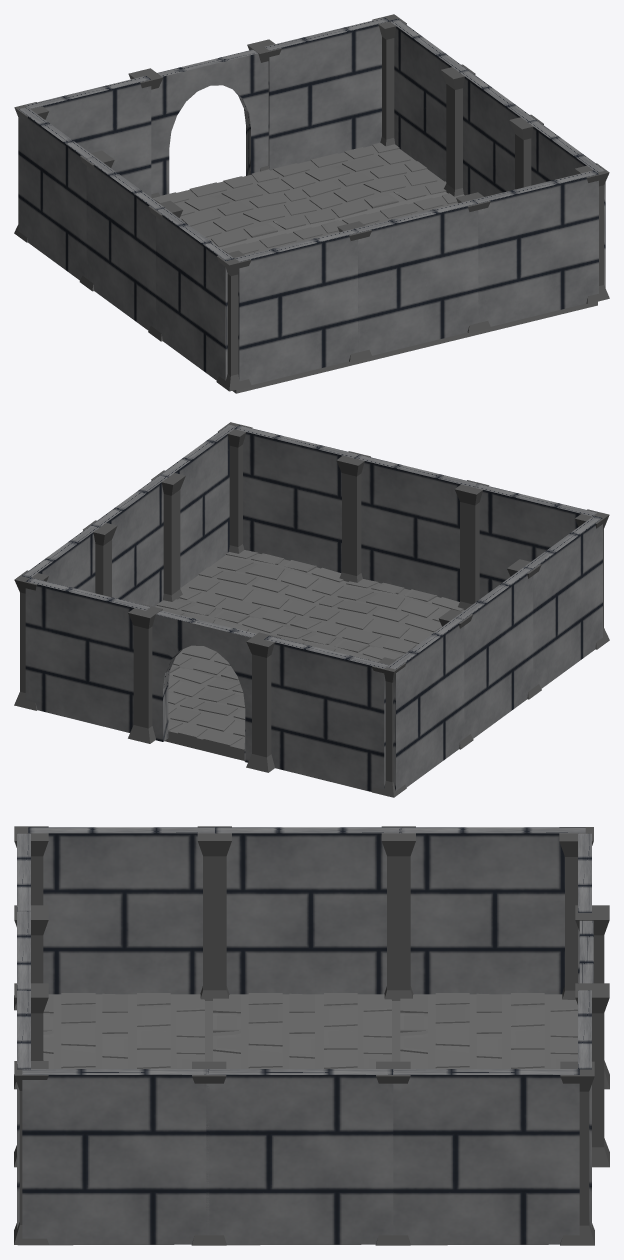
The model's file is kamer.fbx.
3 views of the same model, one above another, from view 1: azimuth 30°, elevation 25°; view 2: azimuth 150°, elevation 25°; view 3: azimuth 270°, elevation 25° (orthographic). The views are drawn at different scales.
Visible parts, largest first — view 1: floor.003, wall.013, wall.014, wall.015, wall.025, wall.023, wall.022, wall.024, Cube, wall.026, wall.020, wall.019 (+7 smaller); view 2: floor.003, wall.026, wall.025, wall.013, wall.014, wall.024, wall.023, wall.022, wall.015, wall.021, wall.019, Cube (+11 smaller); view 3: floor.003, wall.019, wall.020, wall.021, wall.022, wall.023, wall.024, pilar.028, pilar.027, pilar.029, pilar.023, pilar.026 (+13 smaller).
Boxes of the visible parts, x1,y1,x2,y2 form: floor.003: (152,142,597,393); wall.013: (473,170,598,326); wall.014: (355,200,478,355); wall.015: (234,228,359,384); wall.025: (264,17,389,169); wall.023: (156,208,234,380); wall.022: (86,157,164,330); wall.024: (18,107,95,280); Cube: (151,49,268,195); wall.026: (25,76,151,197); wall.020: (390,19,467,181); wall.019: (459,69,535,196); floor.003: (80,550,464,791); wall.026: (264,636,388,791); wall.025: (25,577,150,732); wall.013: (234,425,359,573); wall.014: (354,454,478,601); wall.024: (387,617,464,790); wall.023: (524,516,602,688); wall.022: (455,567,533,738); wall.015: (474,483,597,598); wall.021: (160,424,236,587); wall.019: (91,474,167,606); Cube: (152,610,256,762); floor.003: (18,993,577,1245); wall.019: (206,1069,393,1244); wall.020: (392,1069,579,1244); wall.021: (22,1069,209,1244); wall.022: (215,827,401,994); wall.023: (28,827,215,994); wall.024: (399,827,585,994); pilar.028: (381,826,415,1000); pilar.027: (197,826,231,1000); pilar.029: (575,983,609,1167); pilar.023: (560,1061,594,1245); pilar.026: (559,827,593,999).
Size of the model in its own units: 632 by 208 by 637.
